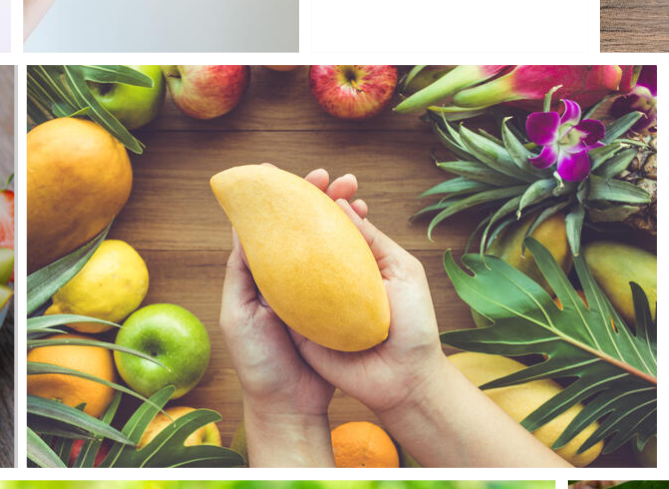mango: (209, 161, 393, 356)
